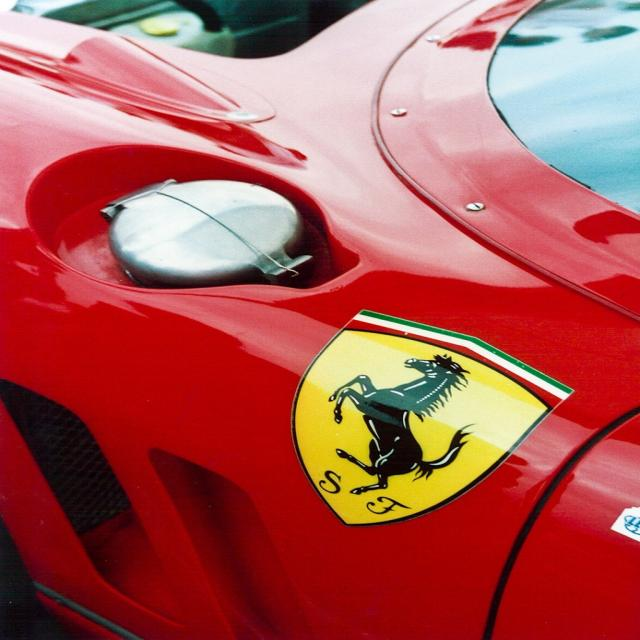ferrari: (289, 311, 576, 532)
